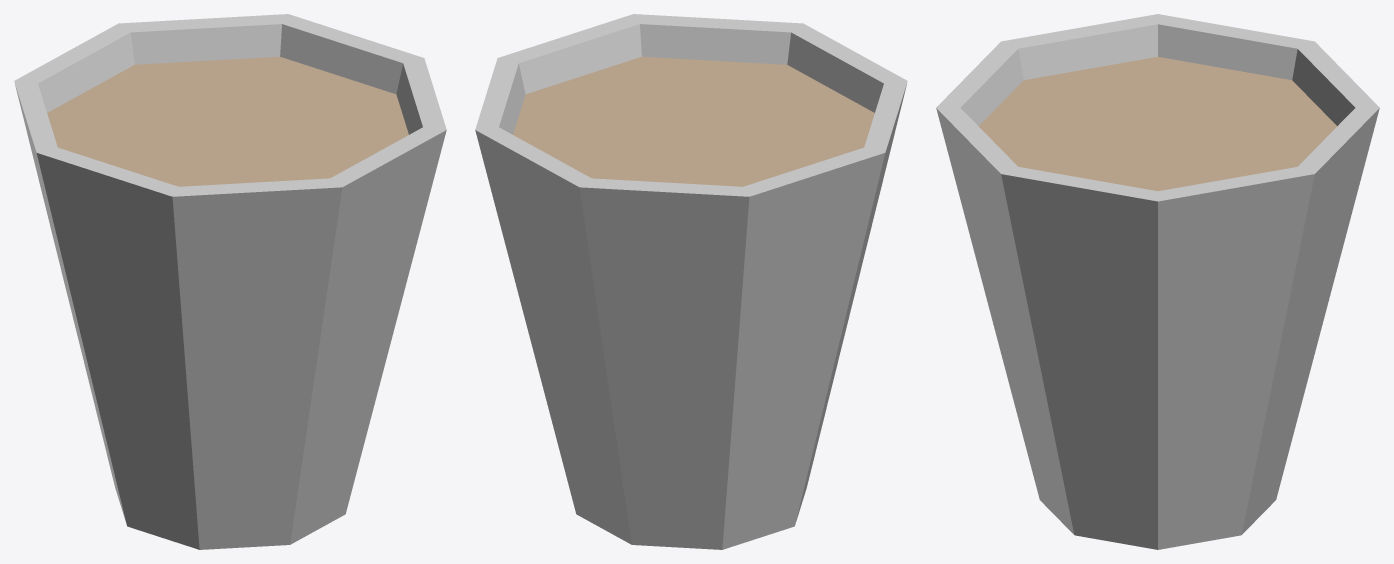
The model's file is food4.fbx.
3 renders of one model, left to right at view 1: azimuth 30°, elevation 25°; view 2: azimuth 150°, elevation 25°; view 3: azimuth 270°, elevation 25°, orthographic.
Visible parts, largest first — view 1: Boole_2; view 2: Boole_2; view 3: Boole_2.
Part boxes in pixels (left/top/right/bottom): Boole_2: left=14, top=14, right=446, bottom=549; Boole_2: left=475, top=14, right=907, bottom=549; Boole_2: left=936, top=14, right=1379, bottom=549.
Bounding box in the file's own units: 11.16 × 10.89 × 11.16.
